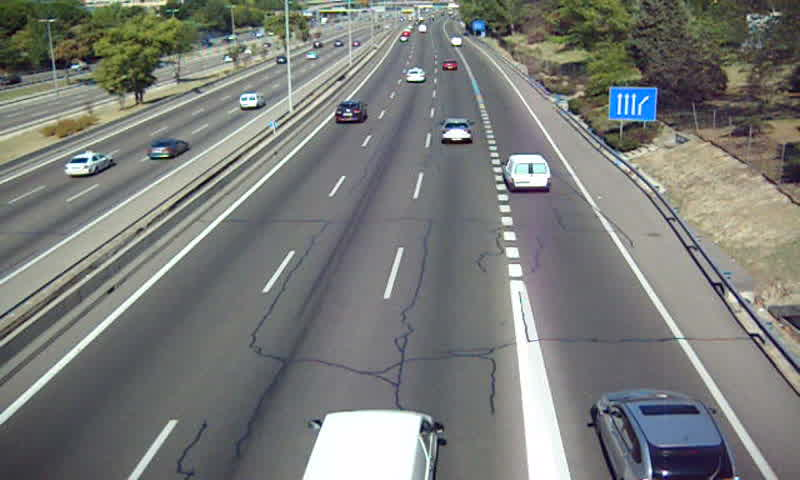car: (594, 390, 735, 480), (441, 118, 474, 145), (335, 99, 368, 122), (405, 66, 426, 84), (442, 59, 459, 71)
van: (503, 155, 550, 189)
